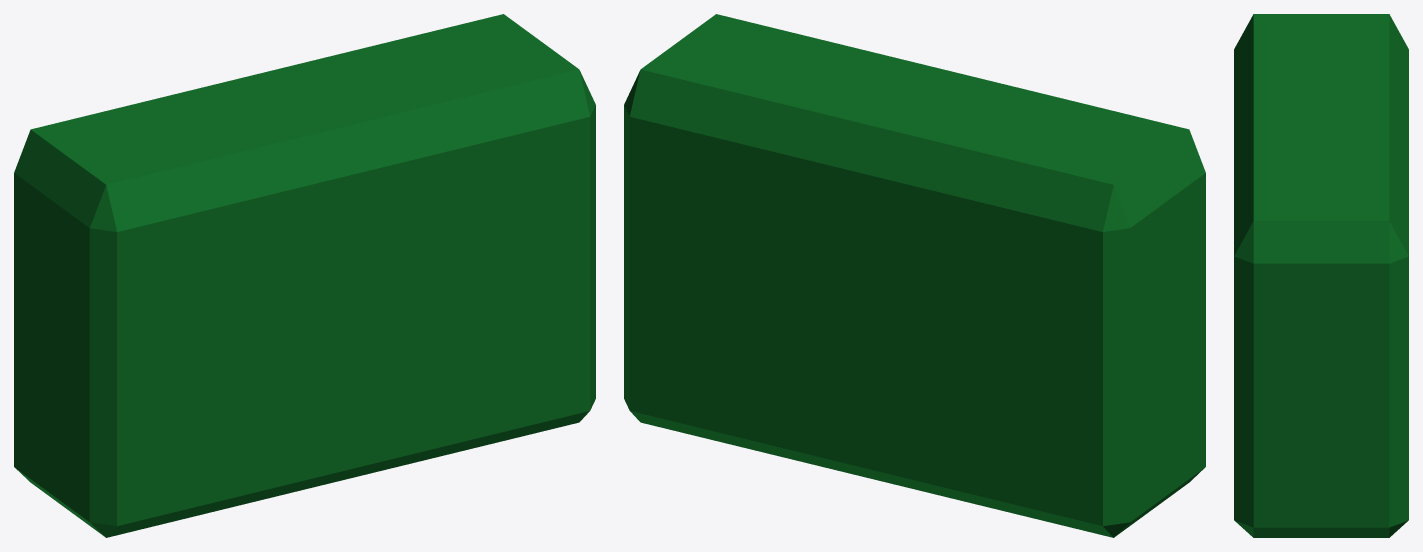
Rendered from Hedge Block.fbx.
3 renders of one model, left to right at view 1: azimuth 30°, elevation 25°; view 2: azimuth 150°, elevation 25°; view 3: azimuth 270°, elevation 25°, orthographic. The views are drawn at different scales.
Visible parts, largest first — view 1: Hedge Tall, Hedge Short; view 2: Hedge Tall, Hedge Short; view 3: Hedge Tall, Hedge Short.
Boxes of the visible parts, x1,y1,x2,y2 form: Hedge Tall: (14,14,595,505); Hedge Short: (14,262,595,537); Hedge Tall: (624,14,1205,506); Hedge Short: (624,262,1205,537); Hedge Tall: (1234,14,1408,509); Hedge Short: (1234,397,1408,537).
Size of the model in its own units: 300 by 200 by 100.
